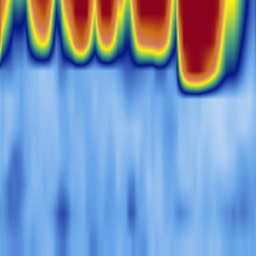defect: (178, 1, 255, 94), (130, 1, 177, 74), (94, 1, 128, 78), (58, 1, 95, 69), (24, 1, 57, 66), (1, 1, 21, 68)
